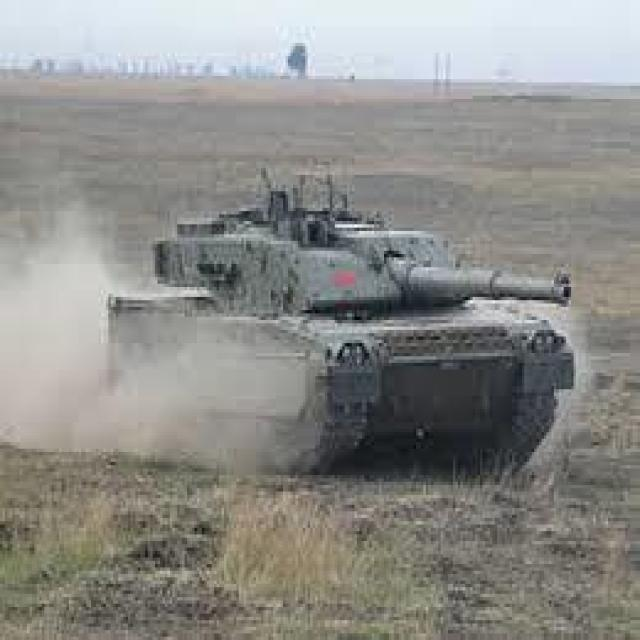MIL_MBT: (98, 46, 571, 591)
